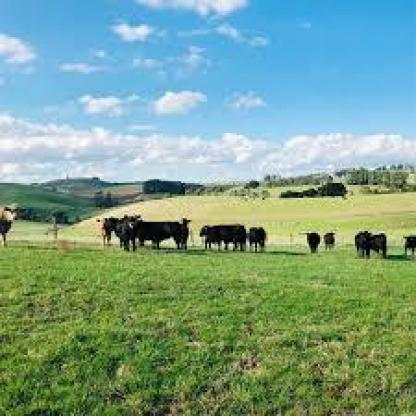cow: (0, 202, 28, 249), (137, 220, 177, 248), (198, 225, 229, 254), (245, 228, 273, 254), (97, 217, 119, 247), (354, 228, 373, 258), (374, 232, 390, 264), (176, 217, 192, 249), (122, 214, 137, 248), (309, 228, 320, 254), (405, 237, 416, 259), (324, 231, 336, 250)
